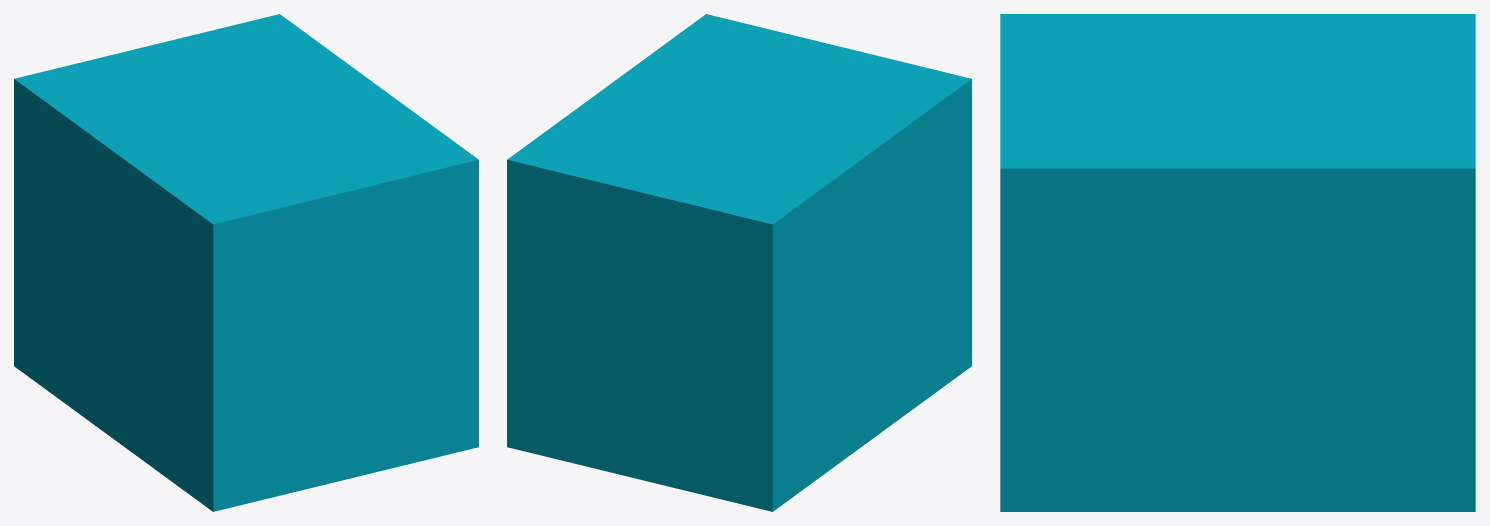
The model's file is generic-19ru-device.glb.
The picture shows the model from 3 angles, left to right: view 1: azimuth 30°, elevation 25°; view 2: azimuth 150°, elevation 25°; view 3: azimuth 270°, elevation 25°; orthographic projection. The views are drawn at different scales.
Visible parts, largest first — view 1: Mesh_Mesh_head_geo.001_lambert2SG.001; view 2: Mesh_Mesh_head_geo.001_lambert2SG.001; view 3: Mesh_Mesh_head_geo.001_lambert2SG.001.
Boxes of the visible parts, <box> form: Mesh_Mesh_head_geo.001_lambert2SG.001: <box>14,14,478,511</box>; Mesh_Mesh_head_geo.001_lambert2SG.001: <box>507,14,971,511</box>; Mesh_Mesh_head_geo.001_lambert2SG.001: <box>1000,14,1475,511</box>.
Bounding box in the file's own units: 483 × 499 × 626.
